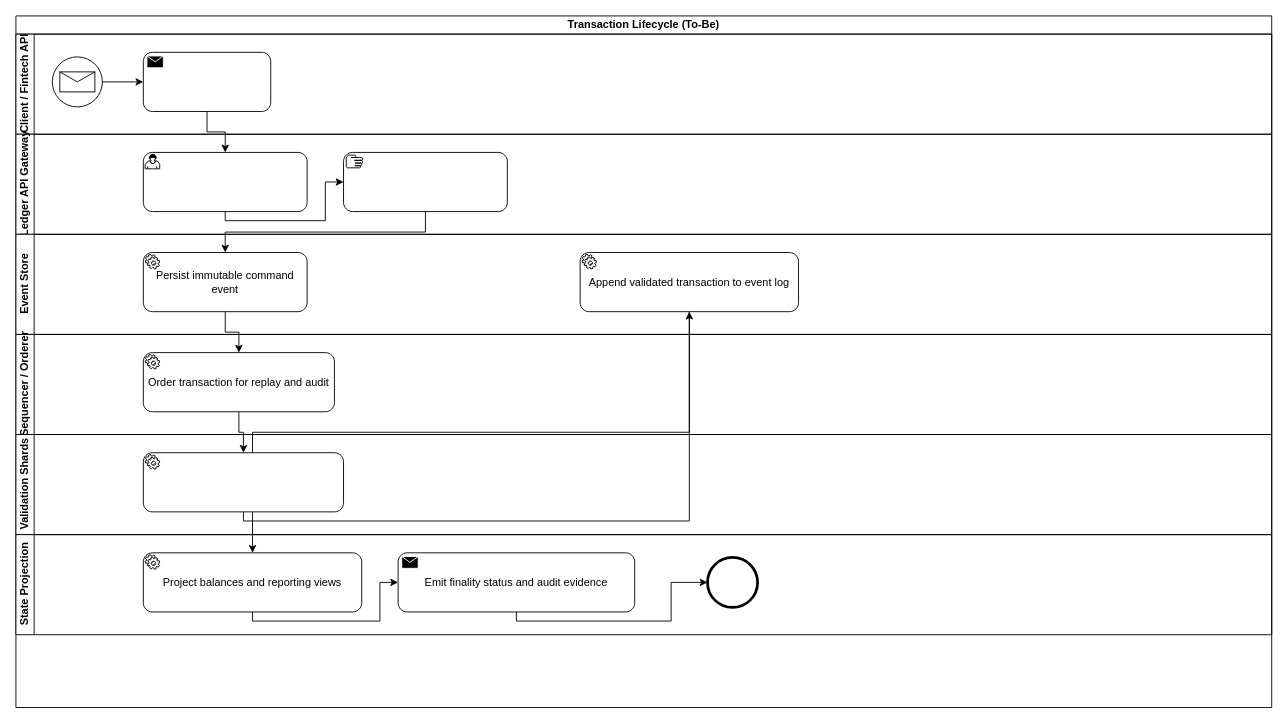
Some shapes in this 1288 by 723 pixel diagram are drawn without their labels. The centre of each missing label's shape, as x and y in pixels:
"Authenticate and normalize command" goes at [224,182].
"Check schema and compliance gates" goes at [425,182].
"Command received" goes at [76,81].
"Execute validation and conflict checks" goes at [243,482].
"Settle & observe" goes at [732,581].
"Submit command / intent" goes at [206,81].
